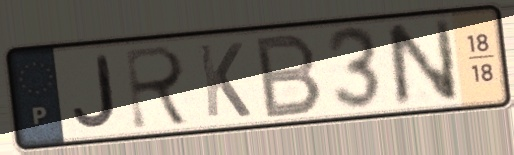3: (327, 24, 383, 115)
B: (254, 29, 326, 122)
J: (70, 52, 120, 131)
K: (195, 39, 254, 121)
N: (380, 14, 462, 111)
R: (122, 42, 195, 133)
